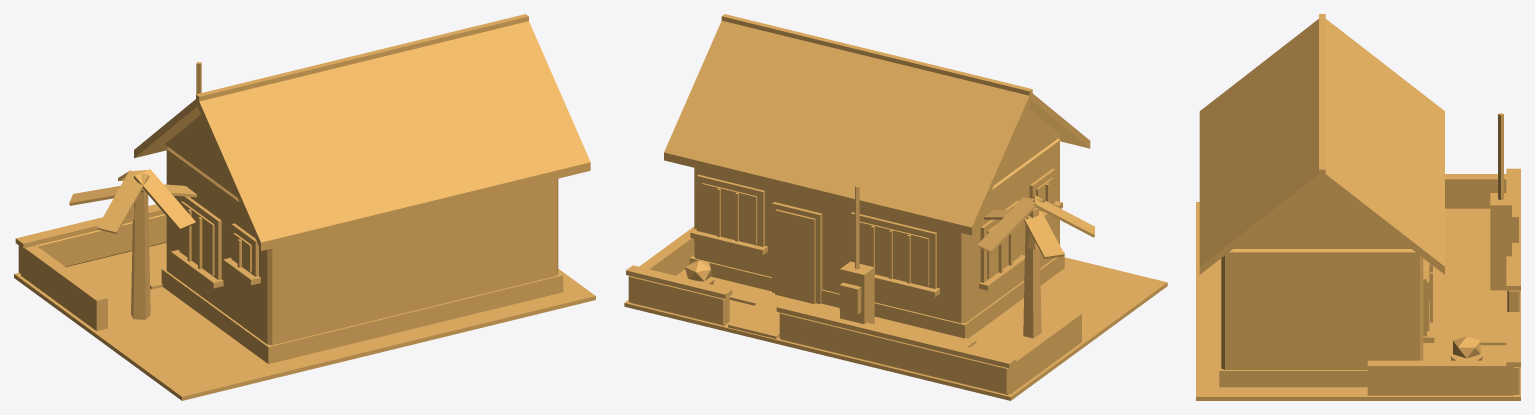
The picture shows the model from 3 angles, left to right: view 1: azimuth 30°, elevation 25°; view 2: azimuth 150°, elevation 25°; view 3: azimuth 270°, elevation 25°; orthographic projection. The views are drawn at different scales.
Parts seen in each view (by area): view 1: corpo; view 2: corpo; view 3: corpo.
Part boxes in pixels (x1,y1,x2,y2): corpo: (14,14,595,400); corpo: (624,14,1167,400); corpo: (1196,14,1520,400).
Size of the model in its own units: 1.29 by 0.703 by 0.9.
